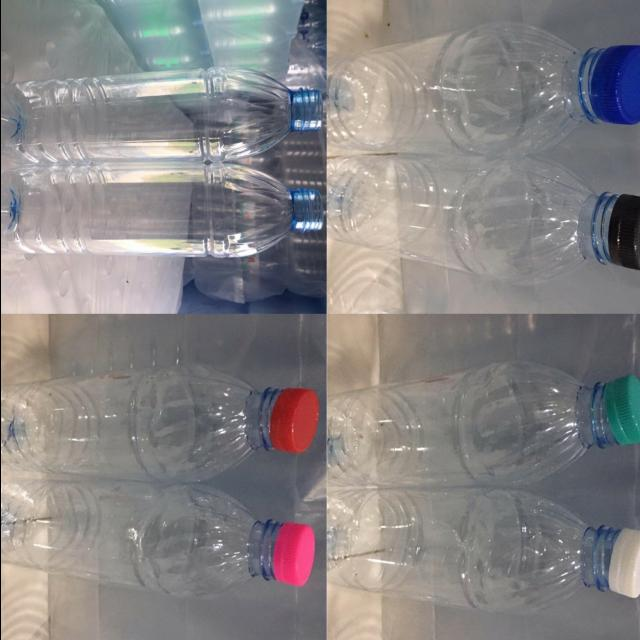plastik: (328, 22, 640, 155), (327, 155, 640, 284), (327, 488, 640, 613), (327, 362, 640, 485), (0, 480, 314, 598), (0, 367, 318, 480), (0, 67, 322, 164), (0, 164, 323, 257)
